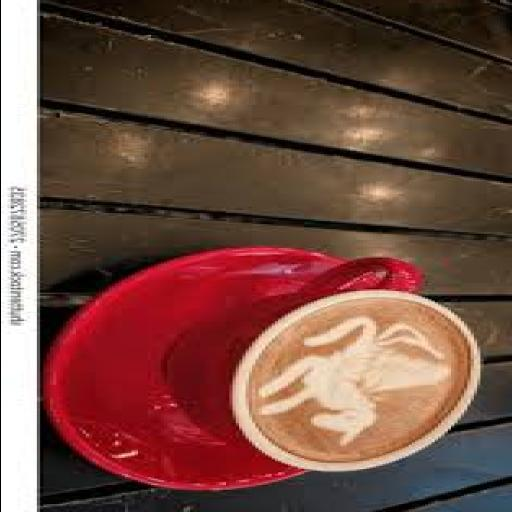red mug: (170, 259, 479, 471)
